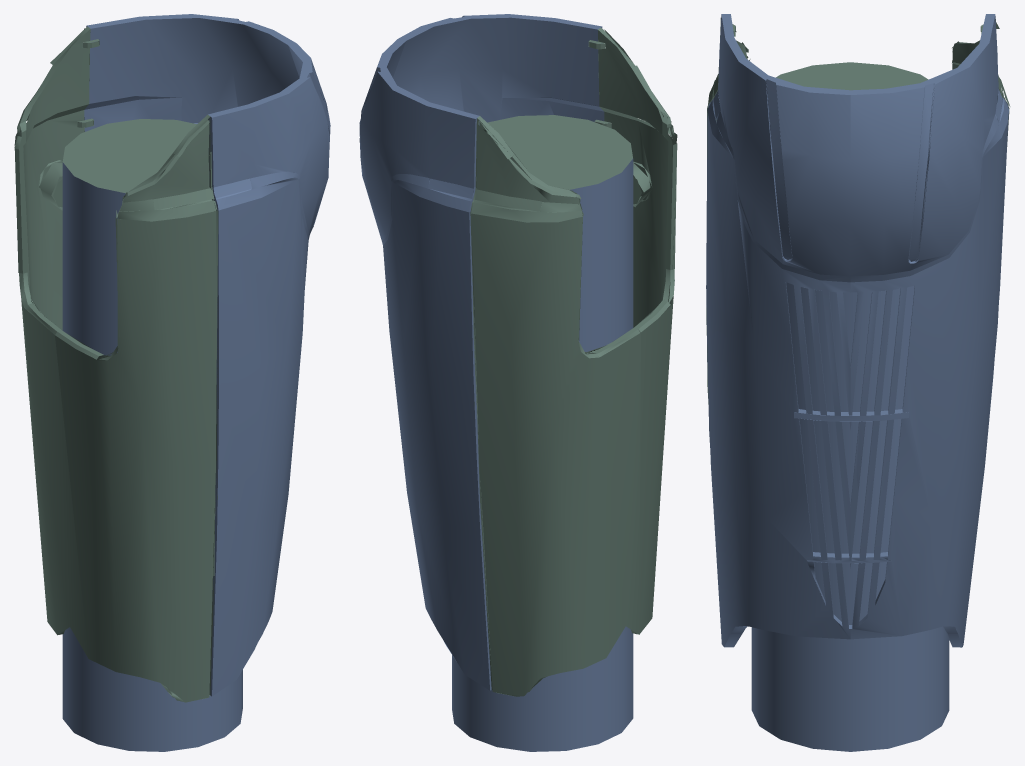
The model's file is icub_l_shank.dae.
The picture shows the model from 3 angles, left to right: view 1: azimuth 30°, elevation 25°; view 2: azimuth 150°, elevation 25°; view 3: azimuth 270°, elevation 25°; orthographic projection. The views are drawn at different scales.
Parts seen in each view (by area): view 1: l_lowerleg_mesh, l_shank_cyl_mesh; view 2: l_lowerleg_mesh, l_shank_cyl_mesh; view 3: l_lowerleg_mesh, l_shank_cyl_mesh.
Boxes of the visible parts, x1,y1,x2,y2 form: l_lowerleg_mesh: (14,14,330,702); l_shank_cyl_mesh: (62,119,242,751); l_lowerleg_mesh: (359,14,677,696); l_shank_cyl_mesh: (452,115,633,751); l_lowerleg_mesh: (706,14,1010,647); l_shank_cyl_mesh: (751,62,949,751).
Size of the model in its own units: 0.1035 by 0.2446 by 0.097.
